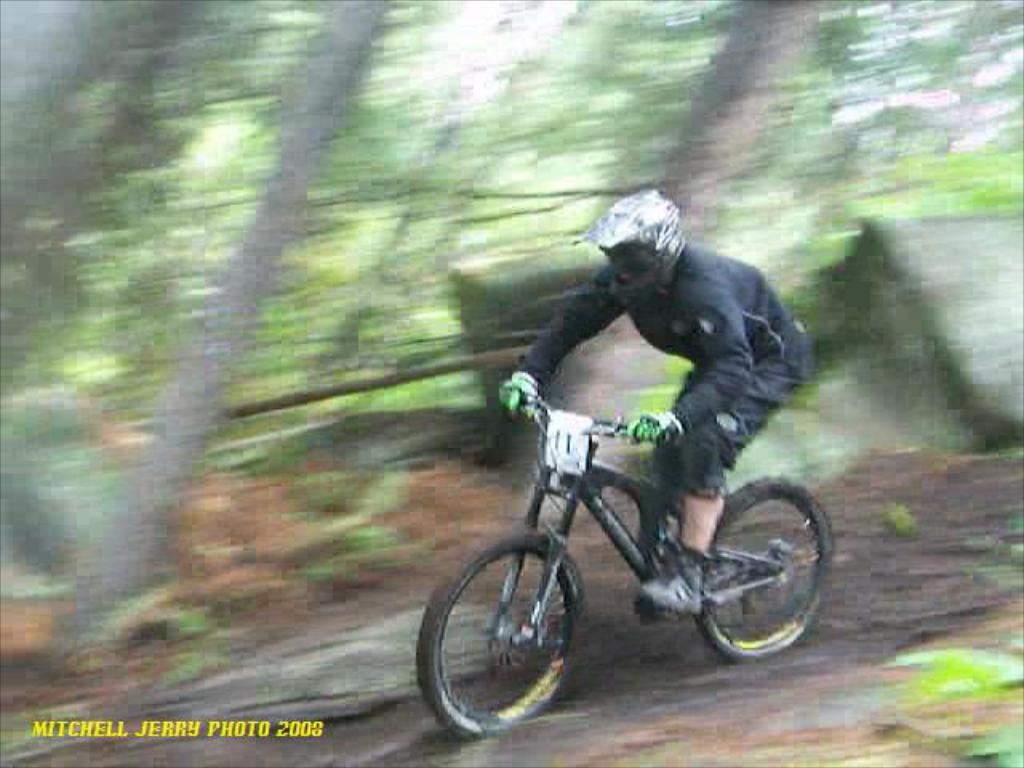Bike_toward: (366, 421, 884, 717)
